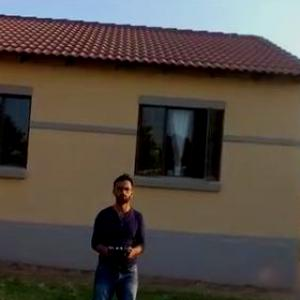follow: (82, 169, 149, 299)
